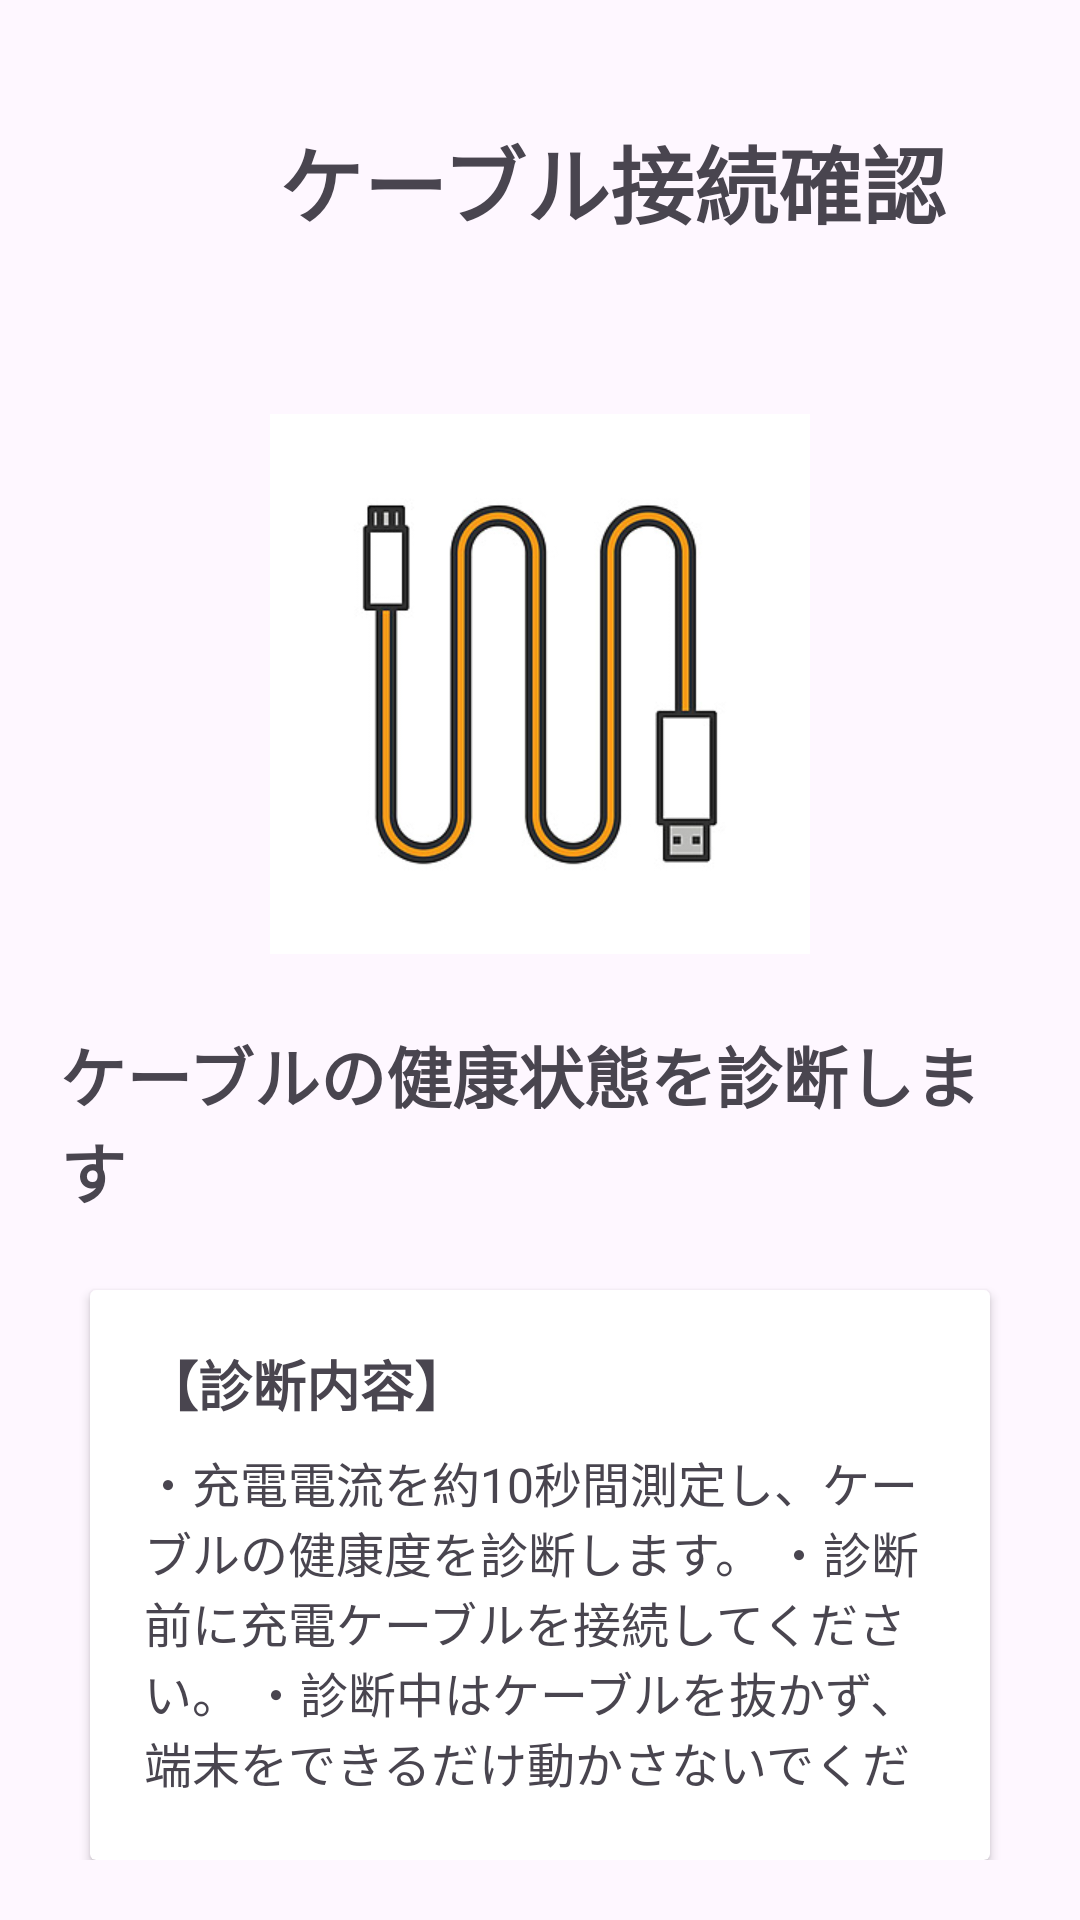

Icon click points for this 1080 x 1920 phone screenshot, format (x,y):
cable: (540,685)
